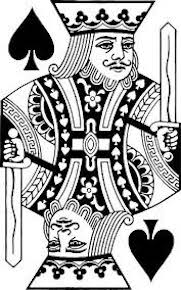KingOfSpades: (1, 1, 180, 290)
